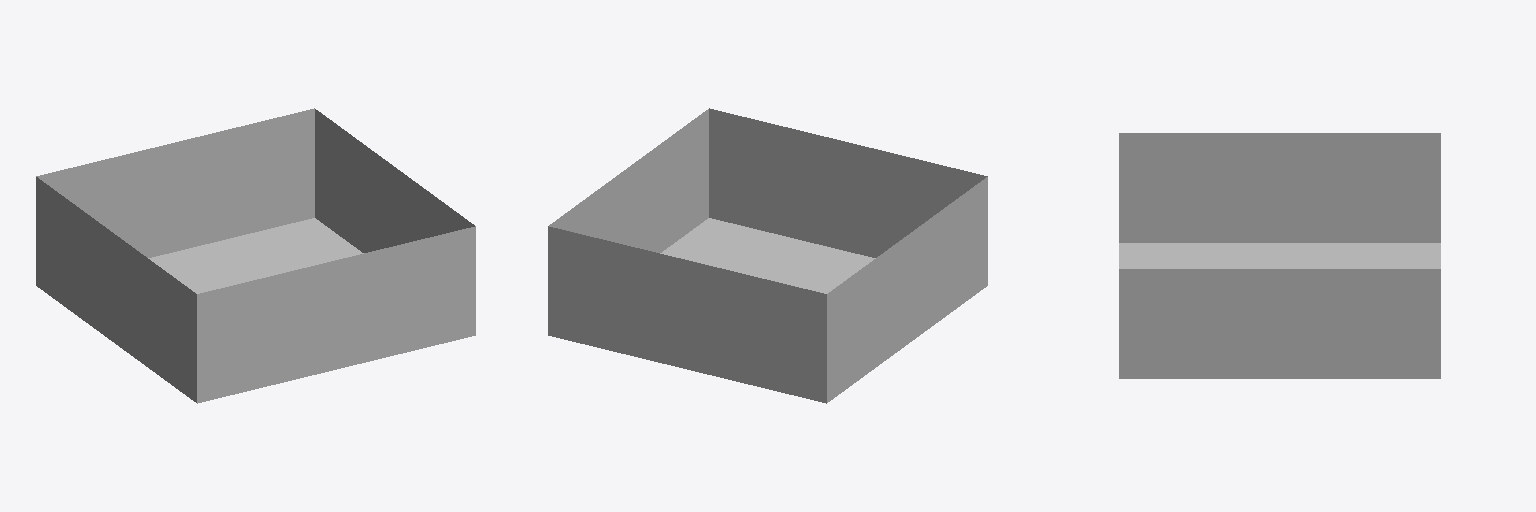
File: Basic_Room.obj
3 views of the same model, side by side, from view 1: azimuth 30°, elevation 25°; view 2: azimuth 150°, elevation 25°; view 3: azimuth 270°, elevation 25° (orthographic).
Parts seen in each view (by area): view 1: Wall_2, Wall_1, Wall_4, Wall_3, Floor; view 2: Wall_1, Wall_2, Wall_4, Wall_3, Floor; view 3: Wall_3, Wall_4, Floor.
Boxes of the visible parts, x1=… form: Wall_2: x1=197, y1=226, x2=475, y2=403; Wall_1: x1=36, y1=108, x2=314, y2=257; Wall_4: x1=36, y1=177, x2=196, y2=402; Wall_3: x1=315, y1=109, x2=474, y2=252; Floor: x1=148, y1=218, x2=363, y2=293; Wall_1: x1=548, y1=226, x2=826, y2=403; Wall_2: x1=709, y1=108, x2=987, y2=257; Wall_4: x1=827, y1=177, x2=987, y2=402; Wall_3: x1=549, y1=109, x2=708, y2=252; Floor: x1=660, y1=218, x2=875, y2=293; Wall_3: x1=1119, y1=269, x2=1440, y2=378; Wall_4: x1=1119, y1=133, x2=1440, y2=242; Floor: x1=1119, y1=243, x2=1440, y2=268.
Size of the model in its own units: 8 by 3 by 8.